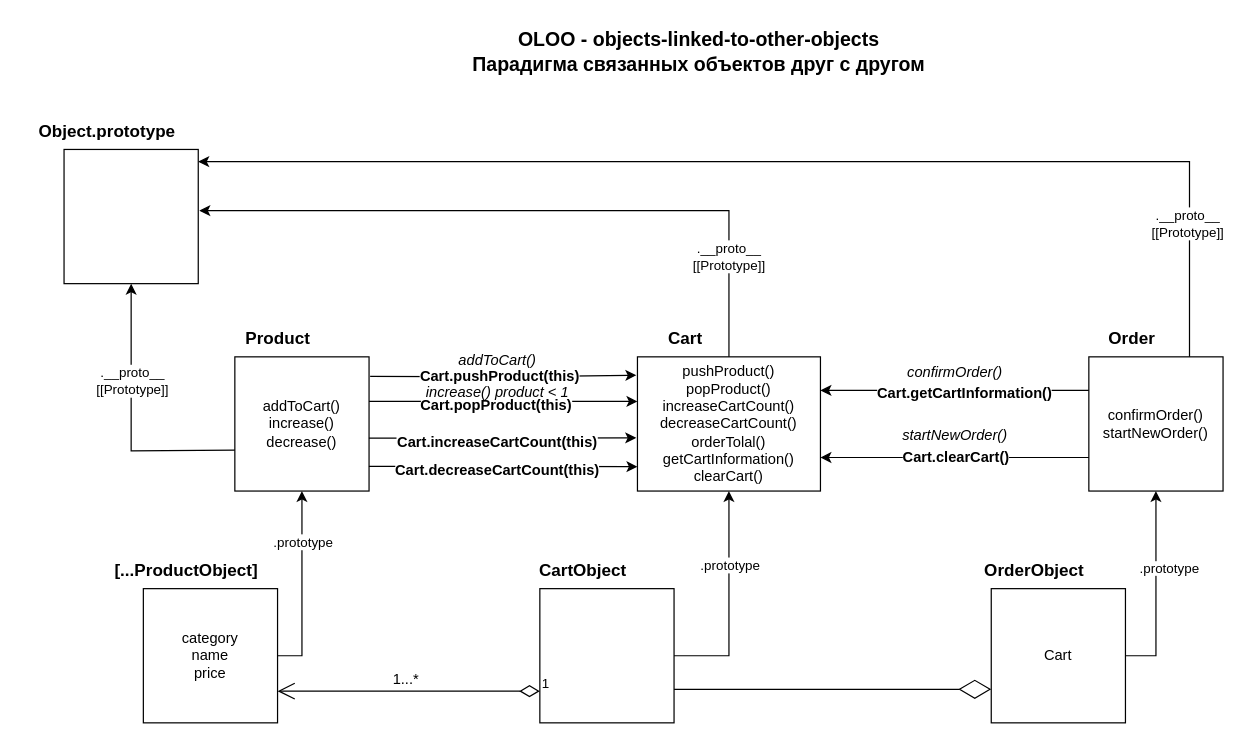
This 1244x744 diagram has some shape labels left out. The centre of each missing label's shape, as x and y in pixels:
"products - count totalPrice" belongs at pixel 606 655.
"toString() valueOf() hasOwnProperty() ..." belongs at pixel 130 216.
